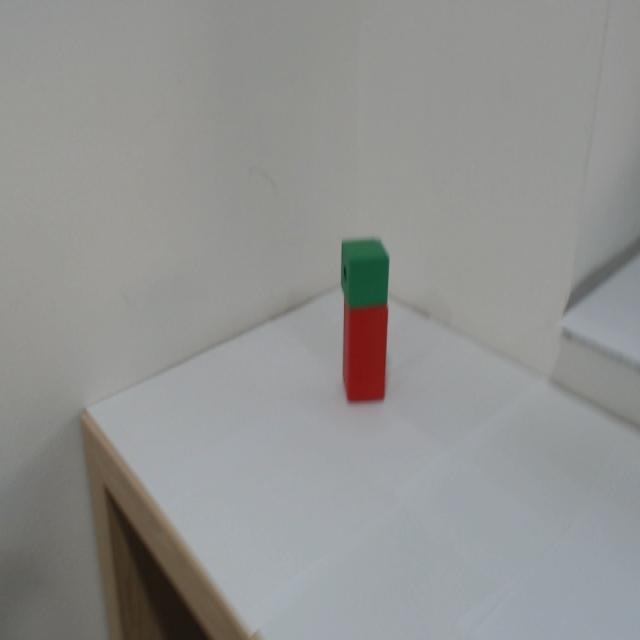cube: (336, 244, 397, 310)
